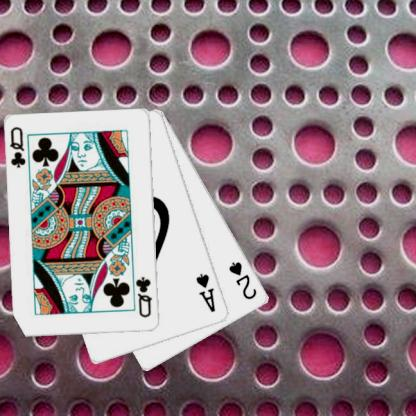2S: (226, 259, 259, 301)
AS: (193, 271, 217, 314)
QC: (8, 124, 28, 170), (134, 274, 154, 319)
